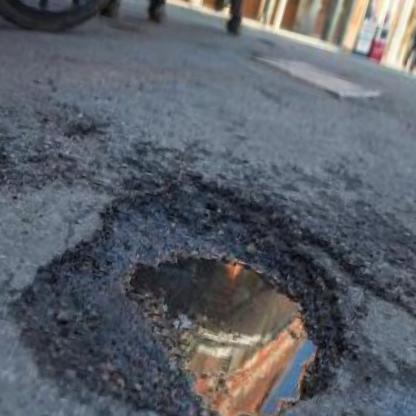pothole: (0, 126, 385, 416)
